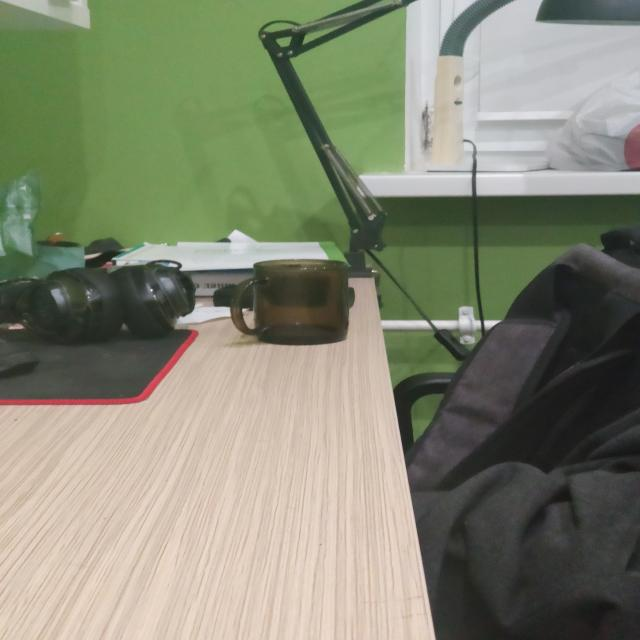cups: (230, 259, 352, 345)
